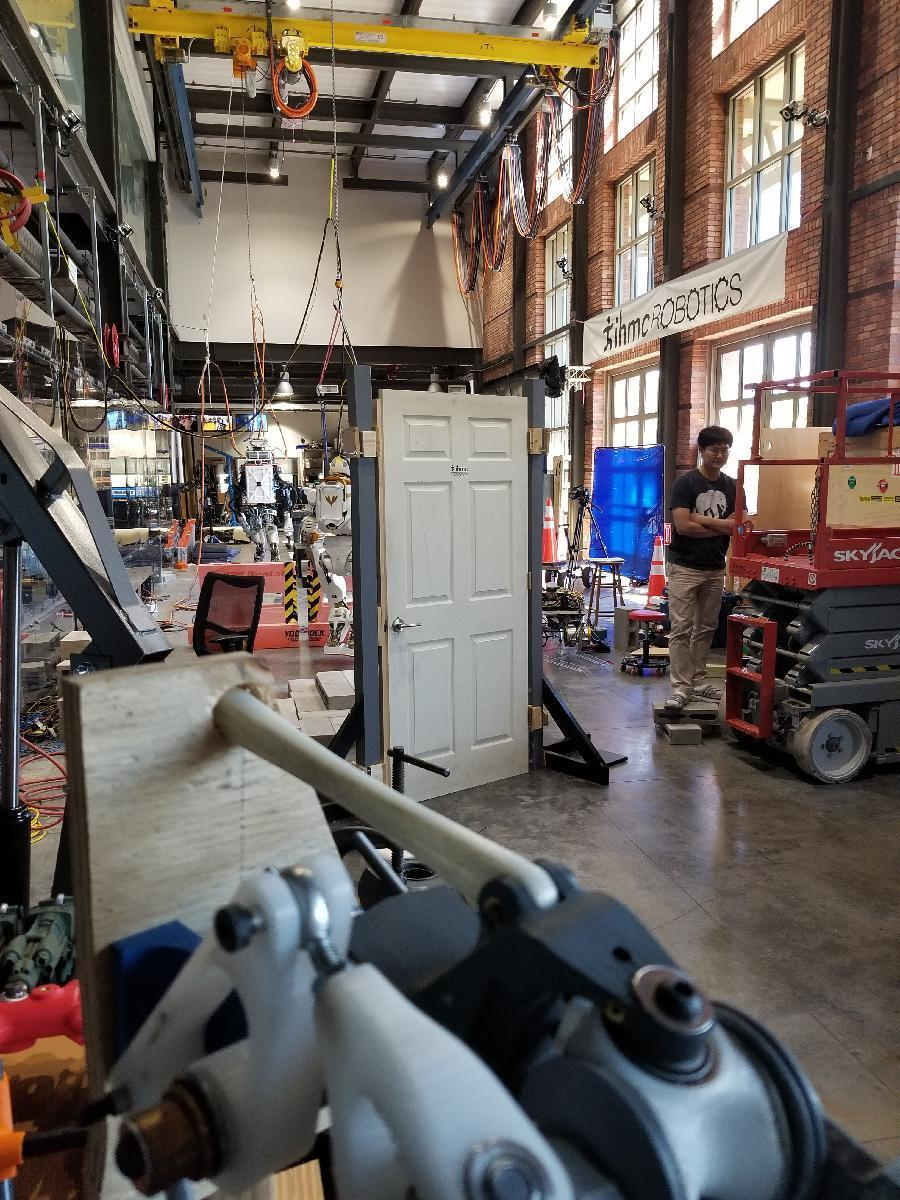door: (378, 388, 529, 793)
handle: (390, 615, 424, 636)
